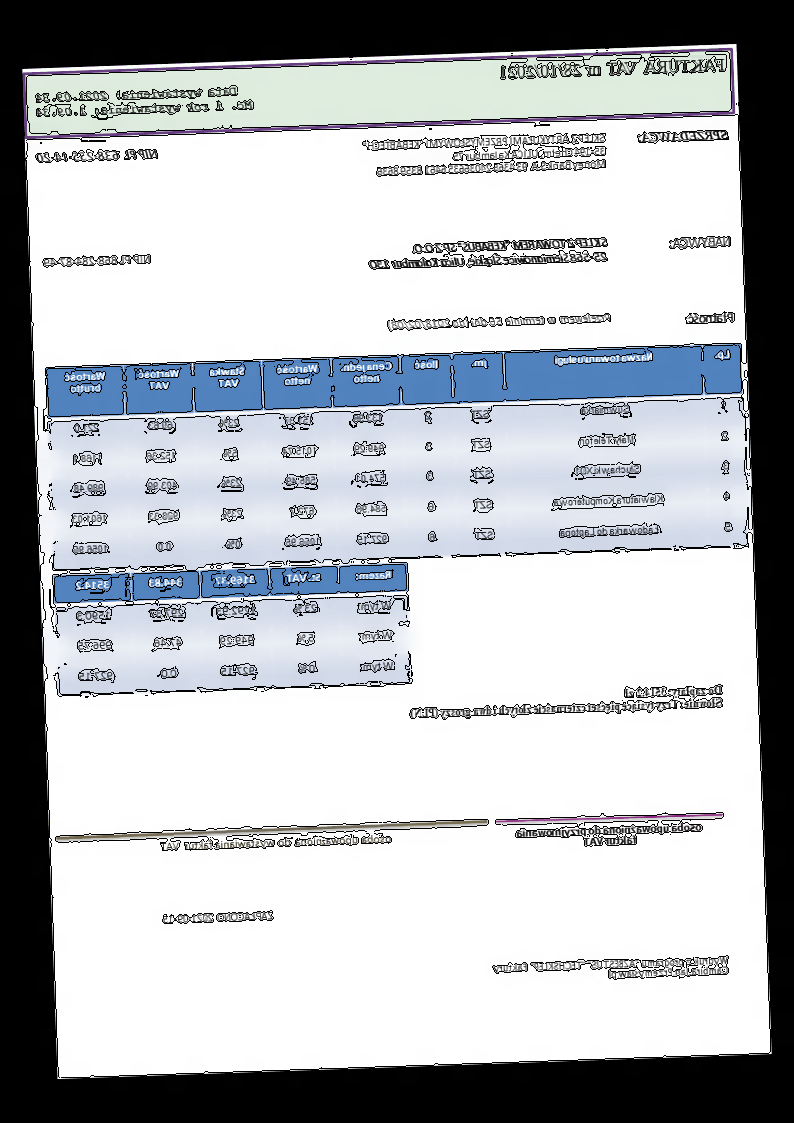Table: (44, 342, 750, 572), (52, 562, 413, 697)
TextBox: (361, 130, 609, 180), (409, 683, 726, 722), (368, 236, 611, 272), (34, 83, 256, 121), (491, 953, 731, 985), (498, 55, 728, 82), (513, 819, 705, 851), (387, 309, 613, 334), (159, 830, 394, 854), (35, 146, 161, 166), (163, 908, 276, 926), (42, 253, 153, 269), (636, 128, 731, 145), (668, 234, 734, 251), (683, 310, 736, 326)
